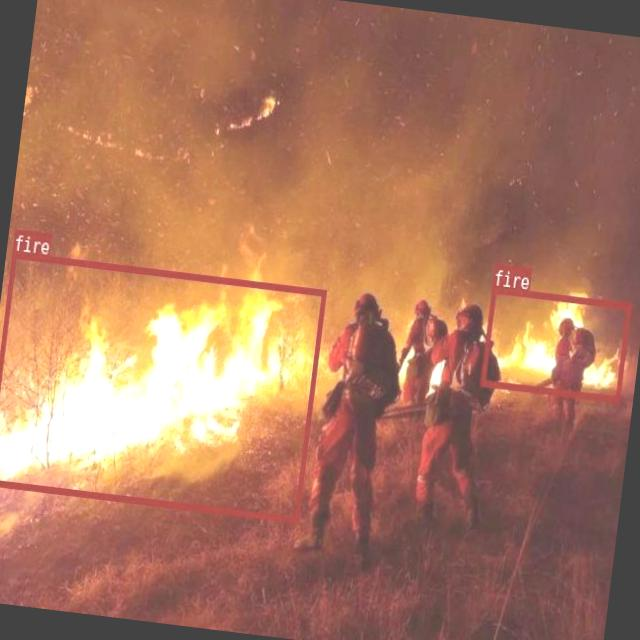fire: (0, 249, 325, 522), (480, 285, 630, 401)
